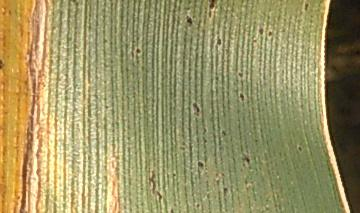tarspot: (147, 169, 156, 195), (192, 101, 200, 117), (154, 190, 163, 204), (184, 15, 194, 26), (133, 46, 143, 56), (207, 1, 216, 10), (295, 144, 304, 153), (241, 156, 251, 164), (238, 92, 246, 102), (303, 1, 310, 12), (221, 186, 229, 195), (257, 27, 265, 36), (237, 70, 244, 80), (267, 29, 274, 38), (1, 58, 6, 70), (196, 161, 204, 168), (215, 38, 222, 46), (251, 36, 258, 44), (129, 50, 135, 59), (207, 10, 213, 19), (221, 129, 227, 137), (169, 206, 175, 213), (195, 202, 201, 209), (254, 137, 259, 144), (214, 75, 219, 81)
